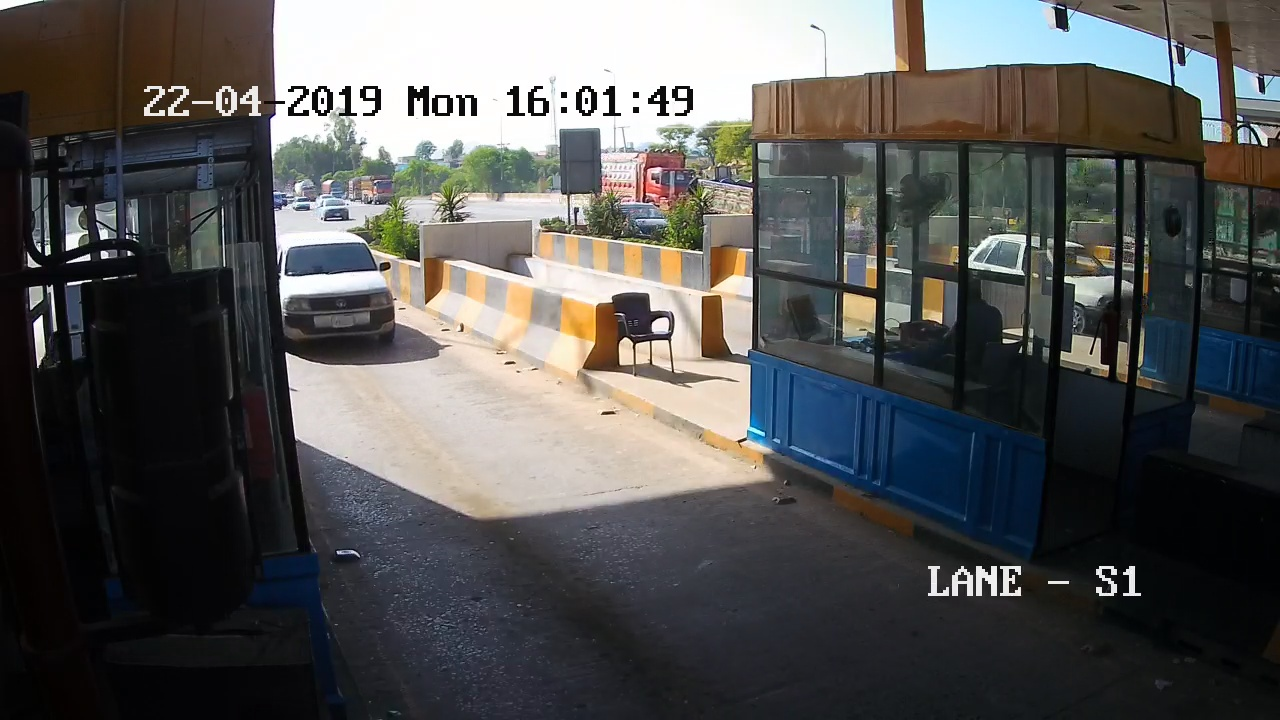car: (277, 222, 410, 370)
